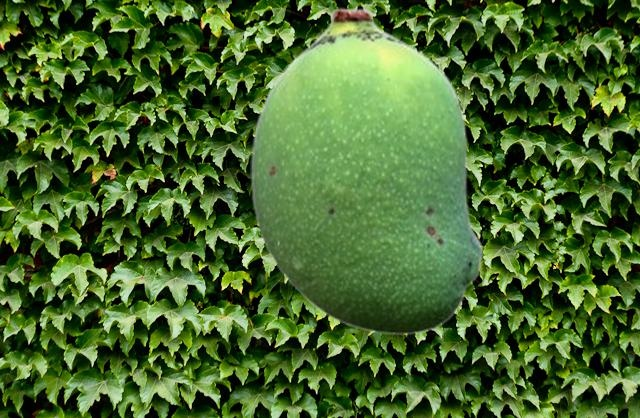green_mango: (250, 7, 483, 335)
